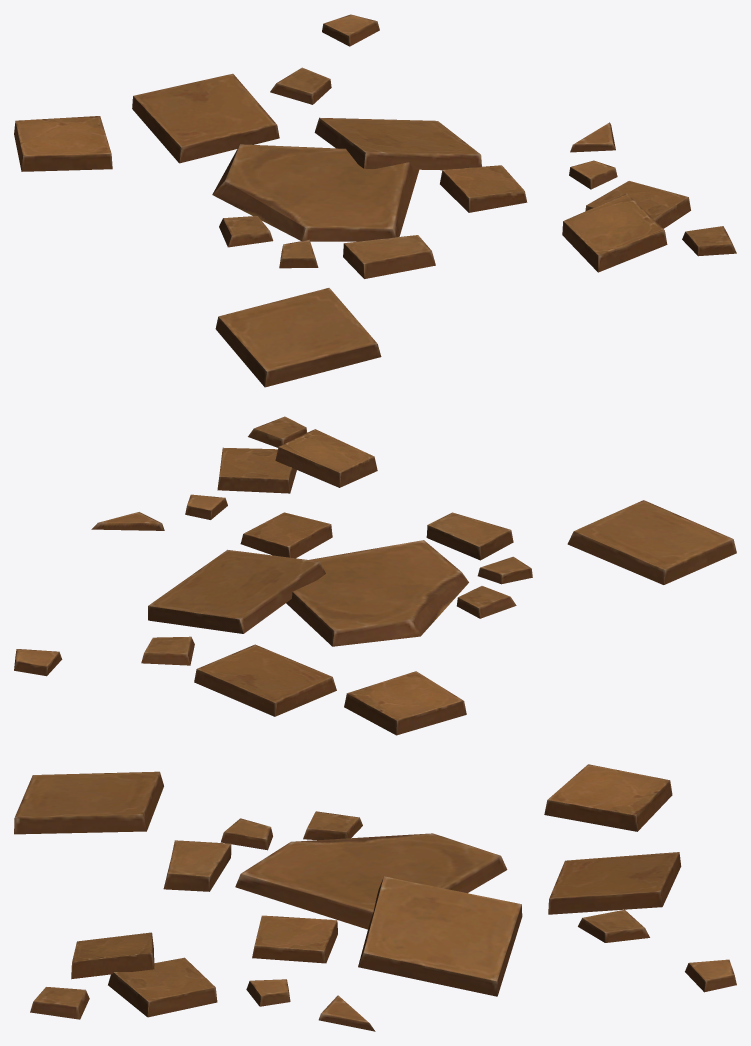
Rendered from shakian_rubble_bricktile01_02.FBX.
3 renders of one model, top to bottom at view 1: azimuth 30°, elevation 25°; view 2: azimuth 150°, elevation 25°; view 3: azimuth 270°, elevation 25°, orthographic. The views are drawn at different scales.
Parts seen in each view (by area): view 1: shakian_rubble_bricktile01_02; view 2: shakian_rubble_bricktile01_02; view 3: shakian_rubble_bricktile01_02.
Boxes of the visible parts, x1,y1,x2,y2 form: shakian_rubble_bricktile01_02: (14, 14, 736, 387); shakian_rubble_bricktile01_02: (14, 416, 736, 735); shakian_rubble_bricktile01_02: (14, 764, 736, 1031).
Size of the model in its own units: 5.01 by 0.514 by 5.81.
